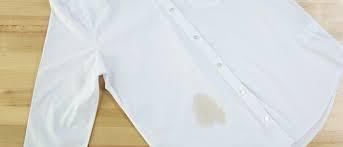coffee: (190, 93, 226, 127)
